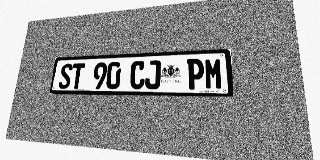0: (106, 62, 121, 89)
9: (92, 62, 108, 89)
C: (129, 61, 145, 89)
J: (145, 60, 161, 89)
M: (204, 58, 223, 90)
P: (187, 58, 204, 90)
S: (58, 63, 73, 89)
T: (70, 63, 85, 89)
